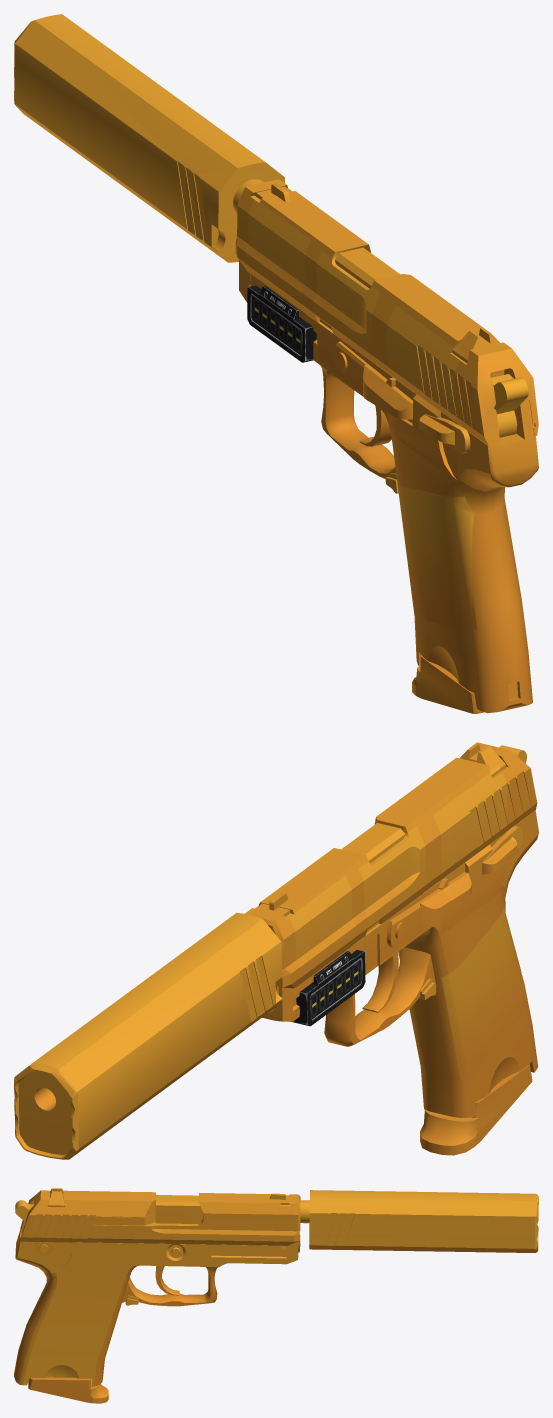
Rendered from usp.glb.
The picture shows the model from 3 angles, top to bottom: view 1: azimuth 30°, elevation 25°; view 2: azimuth 150°, elevation 25°; view 3: azimuth 270°, elevation 25°; orthographic projection. The views are drawn at different scales.
Visible parts, largest first — view 1: LOD_Template.001, Gunlock1.001, Sticker3, Sticker4, Sticker2, Sticker1, StatTrack.003, Magazine1.001; view 2: LOD_Template.001, Gunlock1.001, Sticker3, Sticker4, Sticker2, Sticker1, Magazine1.001, StatTrack.003; view 3: LOD_Template.001, Gunlock1.001, Magazine1.001.
Boxes of the visible parts, x1,y1,x2,y2 form: LOD_Template.001: (14,14,538,713); Gunlock1.001: (235,179,538,446); Sticker3: (377,305,463,478); Sticker4: (397,483,476,630); Sticker2: (313,250,380,396); Sticker1: (244,200,311,321); StatTrack.003: (247,285,316,362); Magazine1.001: (412,655,483,713); LOD_Template.001: (14,745,538,1159); Gunlock1.001: (244,742,537,1011); Sticker3: (433,765,517,934); Sticker4: (441,902,527,1079); Sticker2: (359,826,434,971); Sticker1: (289,875,355,1017); Magazine1.001: (420,1064,532,1155); StatTrack.003: (291,949,365,1026); LOD_Template.001: (14,1190,538,1386); Gunlock1.001: (20,1188,300,1252); Magazine1.001: (28,1377,108,1403).
Bounding box in the file's own units: 0.0667 × 0.3032 × 0.6902.
Materials: 6 (6 with a texture image).
